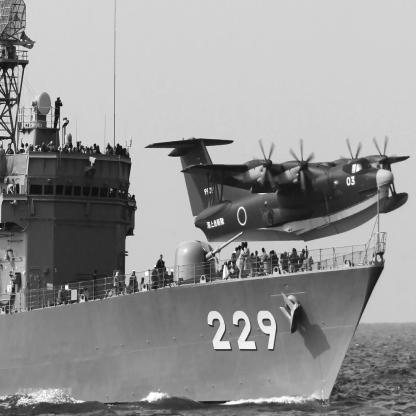US2: (144, 137, 412, 245)
